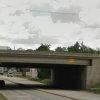Bridge: (4, 41, 93, 82)
